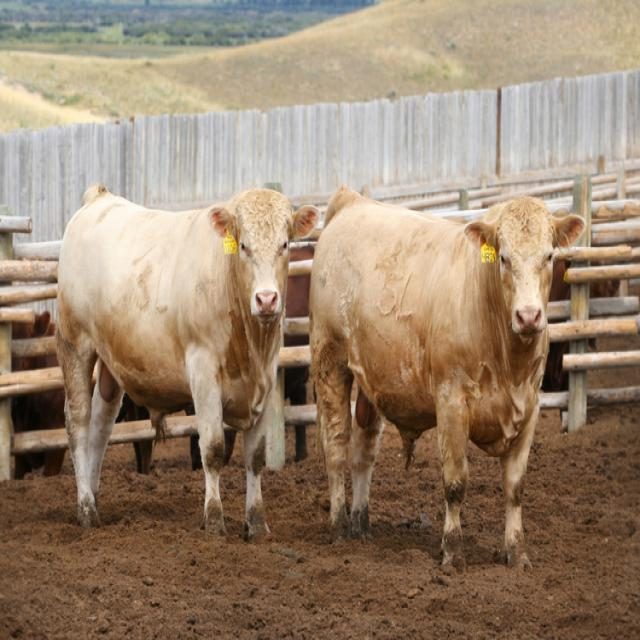cowFace: (456, 188, 588, 350), (209, 175, 322, 343)
